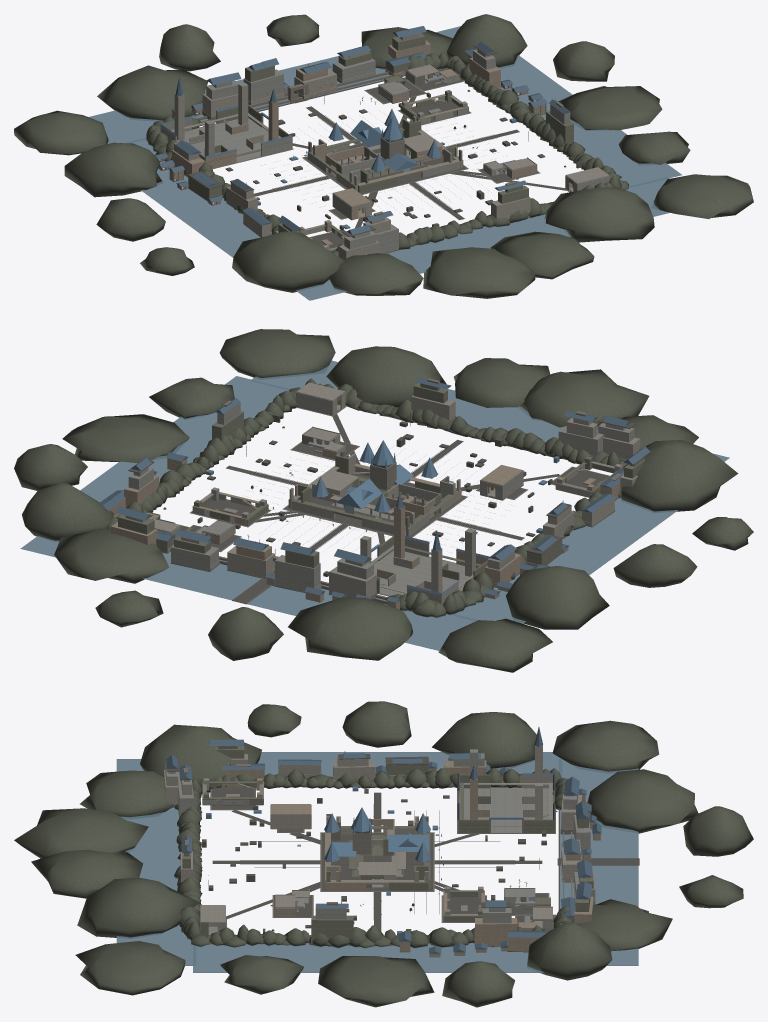
Rendered from takadai-lod1.glb.
The picture shows the model from 3 angles, top to bottom: view 1: azimuth 30°, elevation 25°; view 2: azimuth 150°, elevation 25°; view 3: azimuth 270°, elevation 25°; orthographic projection. The views are drawn at different scales.
Visible parts, largest first — view 1: HB_takadai_LOD1_terrain, HB_takadai_LOD1_water, HB_takadai_LOD1_wall, HB_takadai_LOD1_wall_cool, HB_takadai_LOD1_road, HB_takadai_LOD1_wall_warm, HB_takadai_LOD1_roof, HB_takadai_LOD1_wall_weathered, HB_takadai_LOD1_LANDMARK_1_wall_cool, HB_takadai_LOD1_wall_alt, HB_takadai_LOD1_LANDMARK_0_accent, HB_takadai_LOD1_LANDMARK_0_wall_weathered (+9 smaller); view 2: HB_takadai_LOD1_terrain, HB_takadai_LOD1_water, HB_takadai_LOD1_wall, HB_takadai_LOD1_wall_cool, HB_takadai_LOD1_road, HB_takadai_LOD1_roof, HB_takadai_LOD1_wall_warm, HB_takadai_LOD1_wall_weathered, HB_takadai_LOD1_LANDMARK_1_wall_cool, HB_takadai_LOD1_LANDMARK_0_accent, HB_takadai_LOD1_LANDMARK_0_wall, HB_takadai_LOD1_wall_alt (+8 smaller); view 3: HB_takadai_LOD1_terrain, HB_takadai_LOD1_water, HB_takadai_LOD1_road, HB_takadai_LOD1_wall, HB_takadai_LOD1_roof, HB_takadai_LOD1_wall_warm, HB_takadai_LOD1_wall_cool, HB_takadai_LOD1_wall_weathered, HB_takadai_LOD1_LANDMARK_1_wall_cool, HB_takadai_LOD1_LANDMARK_0_accent, HB_takadai_LOD1_wall_alt, HB_takadai_LOD1_LANDMARK_0_wall_weathered (+6 smaller).
Part boxes in pixels (left/top/right/bottom): HB_takadai_LOD1_terrain: left=14, top=14, right=753, bottom=298; HB_takadai_LOD1_water: left=88, top=26, right=681, bottom=300; HB_takadai_LOD1_wall: left=202, top=64, right=609, bottom=259; HB_takadai_LOD1_wall_cool: left=174, top=33, right=609, bottom=253; HB_takadai_LOD1_road: left=203, top=68, right=568, bottom=248; HB_takadai_LOD1_wall_warm: left=158, top=40, right=546, bottom=245; HB_takadai_LOD1_roof: left=155, top=26, right=570, bottom=235; HB_takadai_LOD1_wall_weathered: left=188, top=33, right=573, bottom=251; HB_takadai_LOD1_LANDMARK_1_wall_cool: left=163, top=113, right=292, bottom=162; HB_takadai_LOD1_wall_alt: left=158, top=56, right=570, bottom=237; HB_takadai_LOD1_LANDMARK_0_accent: left=329, top=109, right=441, bottom=171; HB_takadai_LOD1_LANDMARK_0_wall_weathered: left=308, top=118, right=462, bottom=193; HB_takadai_LOD1_terrain: left=14, top=329, right=753, bottom=672; HB_takadai_LOD1_water: left=20, top=360, right=729, bottom=651; HB_takadai_LOD1_wall: left=153, top=382, right=640, bottom=597; HB_takadai_LOD1_wall_cool: left=125, top=392, right=634, bottom=592; HB_takadai_LOD1_road: left=181, top=406, right=608, bottom=604; HB_takadai_LOD1_roof: left=99, top=377, right=650, bottom=602; HB_takadai_LOD1_wall_warm: left=106, top=426, right=626, bottom=609; HB_takadai_LOD1_wall_weathered: left=118, top=383, right=645, bottom=597; HB_takadai_LOD1_LANDMARK_1_wall_cool: left=371, top=528, right=475, bottom=603; HB_takadai_LOD1_LANDMARK_0_accent: left=313, top=440, right=437, bottom=512; HB_takadai_LOD1_LANDMARK_0_wall: left=291, top=453, right=461, bottom=524; HB_takadai_LOD1_wall_alt: left=163, top=378, right=622, bottom=604; HB_takadai_LOD1_terrain: left=14, top=701, right=753, bottom=1007; HB_takadai_LOD1_water: left=116, top=752, right=638, bottom=972; HB_takadai_LOD1_road: left=210, top=786, right=639, bottom=931; HB_takadai_LOD1_wall: left=164, top=754, right=582, bottom=945; HB_takadai_LOD1_roof: left=165, top=739, right=601, bottom=953; HB_takadai_LOD1_wall_warm: left=170, top=760, right=600, bottom=956; HB_takadai_LOD1_wall_cool: left=165, top=753, right=595, bottom=943; HB_takadai_LOD1_wall_weathered: left=182, top=746, right=593, bottom=944; HB_takadai_LOD1_LANDMARK_1_wall_cool: left=458, top=749, right=554, bottom=833; HB_takadai_LOD1_LANDMARK_0_accent: left=324, top=807, right=430, bottom=862; HB_takadai_LOD1_wall_alt: left=172, top=751, right=639, bottom=957; HB_takadai_LOD1_LANDMARK_0_wall_weathered: left=324, top=816, right=430, bottom=890.
Bounding box in the file's own units: 628 × 68.88 × 666.
Materials: 15 (12 with a texture image).
